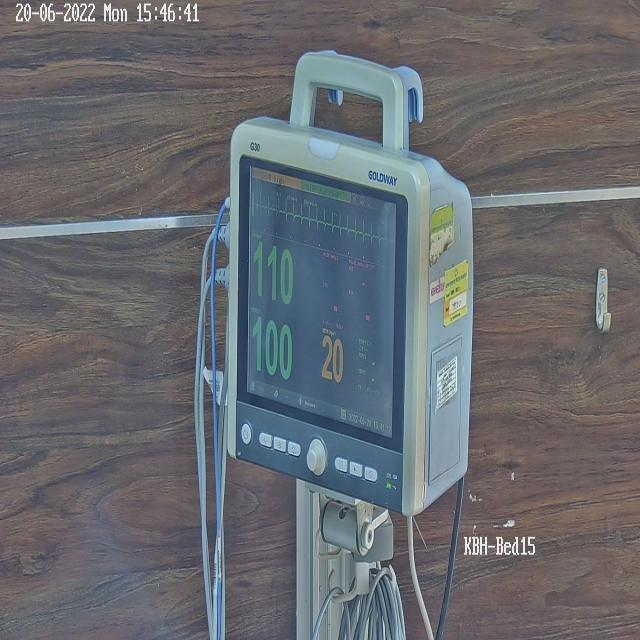Monitor: (208, 48, 474, 639)
